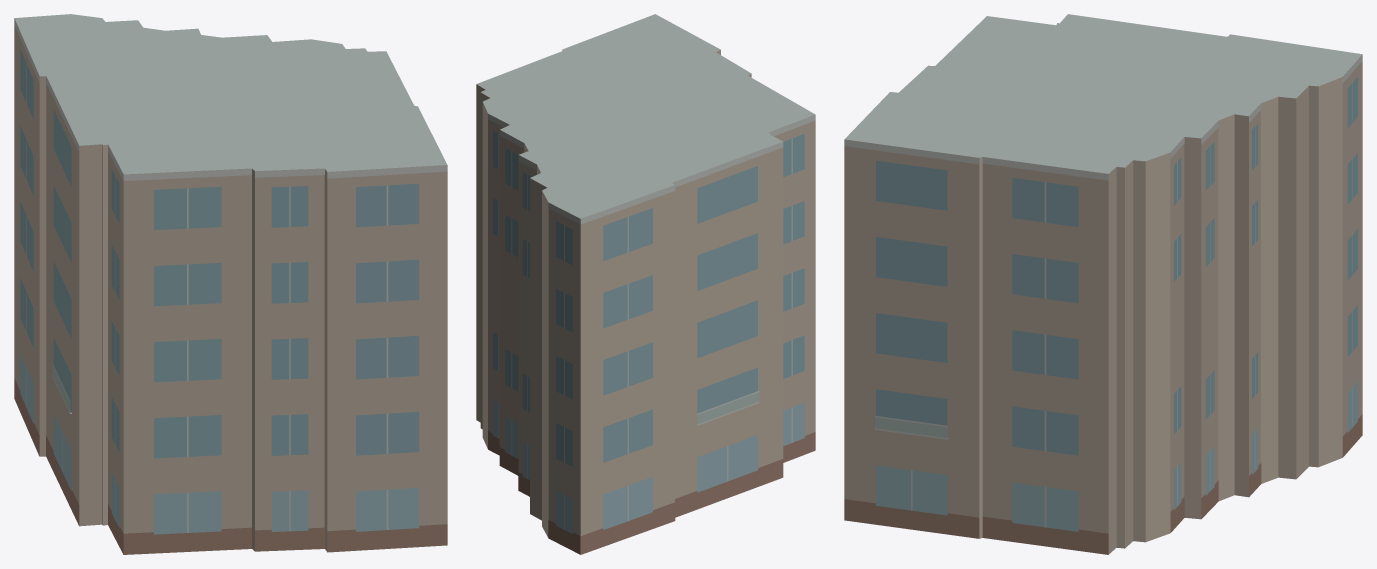
File: survey-upis-32677670.glb
The picture shows the model from 3 angles, left to right: view 1: azimuth 30°, elevation 25°; view 2: azimuth 150°, elevation 25°; view 3: azimuth 270°, elevation 25°; orthographic projection. The views are drawn at different scales.
Parts seen in each view (by area): view 1: survey-upis-32677670.tmp; view 2: survey-upis-32677670.tmp; view 3: survey-upis-32677670.tmp.
Part boxes in pixels (x1,y1,x2,y2): survey-upis-32677670.tmp: (14, 14, 447, 554); survey-upis-32677670.tmp: (476, 14, 815, 554); survey-upis-32677670.tmp: (844, 14, 1362, 554).
Bounding box in the file's own units: 12.66 × 14.05 × 17.33.
